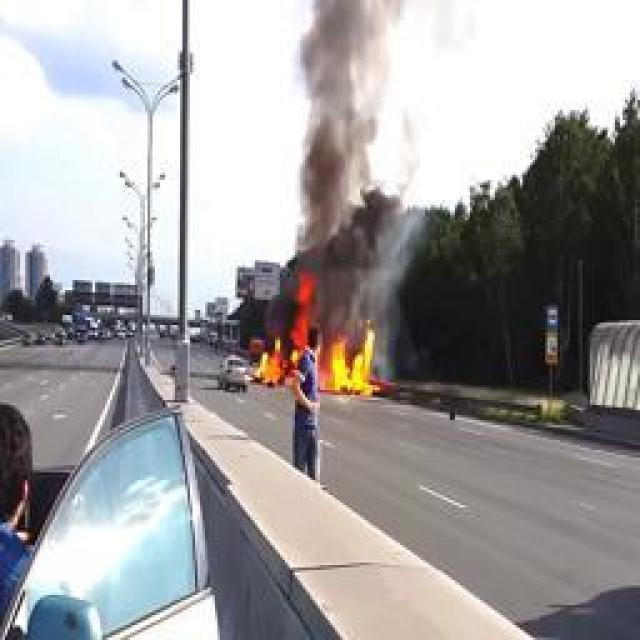Fire: (256, 276, 382, 396)
